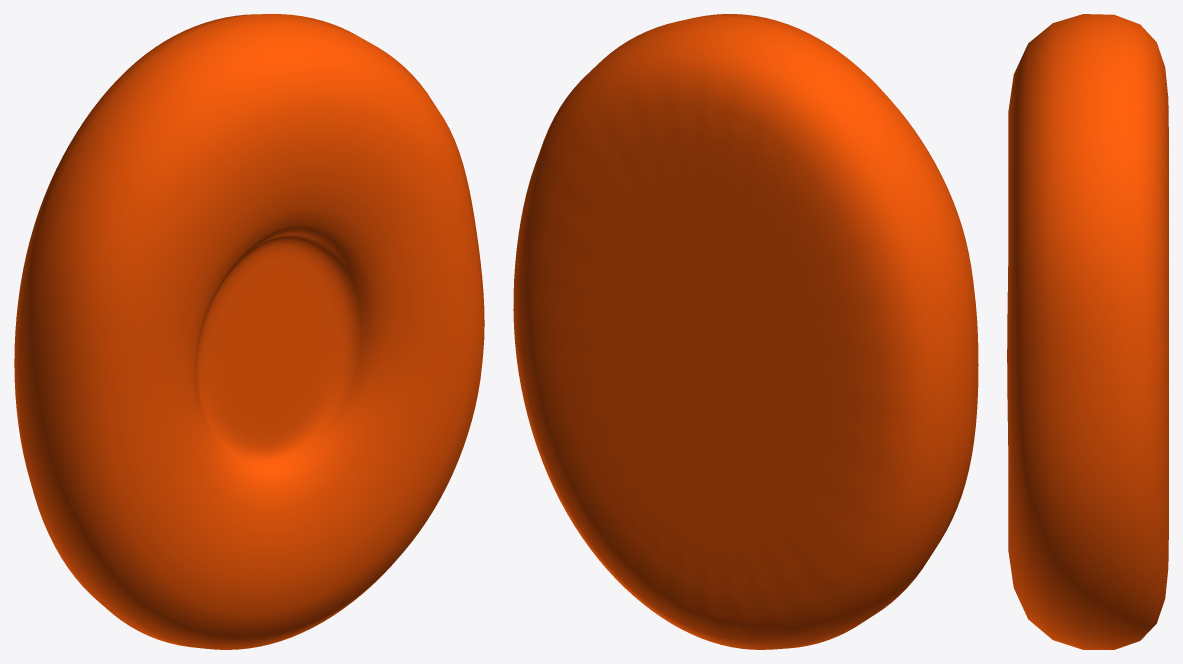
The model's file is turuncuseker.fbx.
3 views of the same model, side by side, from view 1: azimuth 30°, elevation 25°; view 2: azimuth 150°, elevation 25°; view 3: azimuth 270°, elevation 25° (orthographic). The views are drawn at different scales.
Visible parts, largest first — view 1: turuncuseker; view 2: turuncuseker; view 3: turuncuseker.
Part boxes in pixels (x1,y1,x2,y2): turuncuseker: [14, 14, 484, 649]; turuncuseker: [513, 14, 978, 649]; turuncuseker: [1007, 14, 1168, 649].
Bounding box in the file's own units: 57.91 × 77.3 × 18.95.
